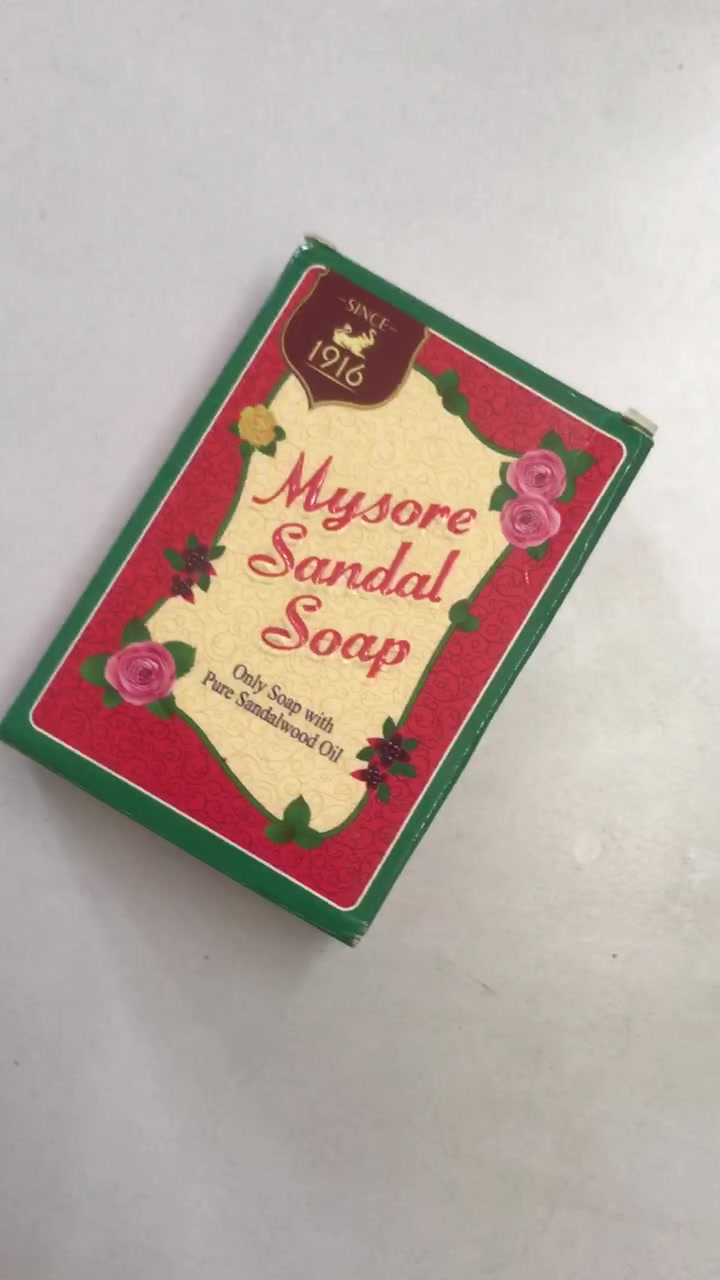mysore sandal soap: (6, 237, 656, 952)
